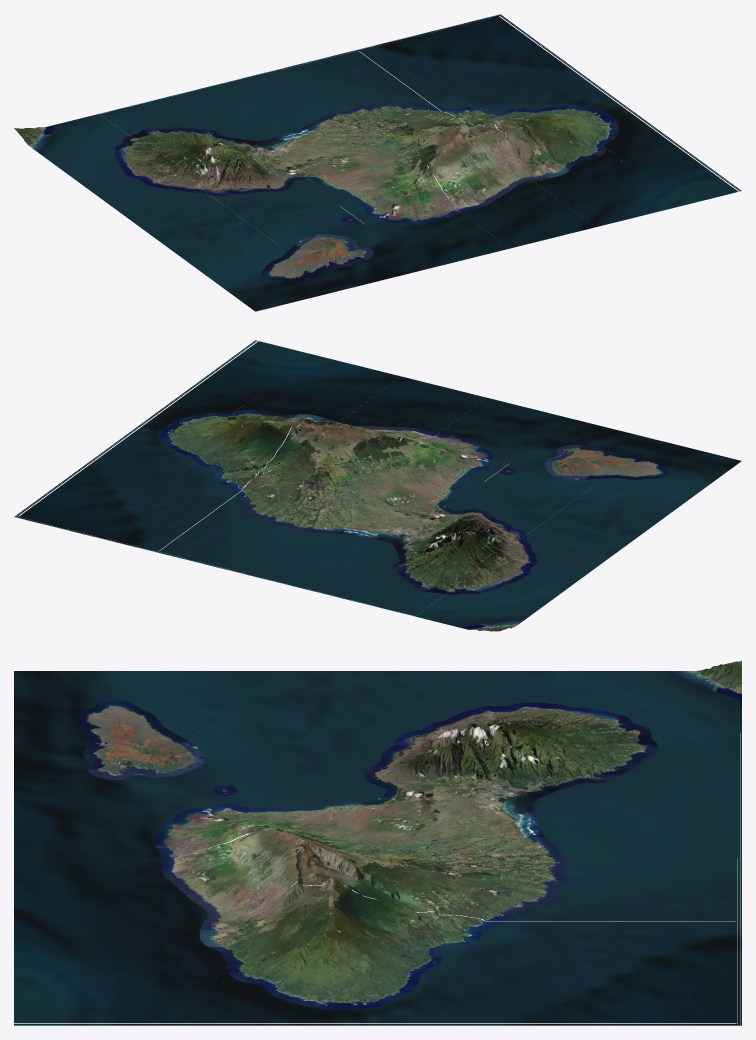
File: island.glb
3 renders of one model, top to bottom at view 1: azimuth 30°, elevation 25°; view 2: azimuth 150°, elevation 25°; view 3: azimuth 270°, elevation 25°, orthographic. The views are drawn at different scales.
Parts seen in each view (by area): view 1: dem_alos_6; view 2: dem_alos_6; view 3: dem_alos_6.
Part boxes in pixels (bbox=[...]): dem_alos_6: bbox=[14, 14, 741, 311]; dem_alos_6: bbox=[14, 340, 741, 631]; dem_alos_6: bbox=[14, 660, 741, 1025].
Size of the model in its own units: 220 by 14.52 by 189.
Materials: 1 (1 with a texture image).
